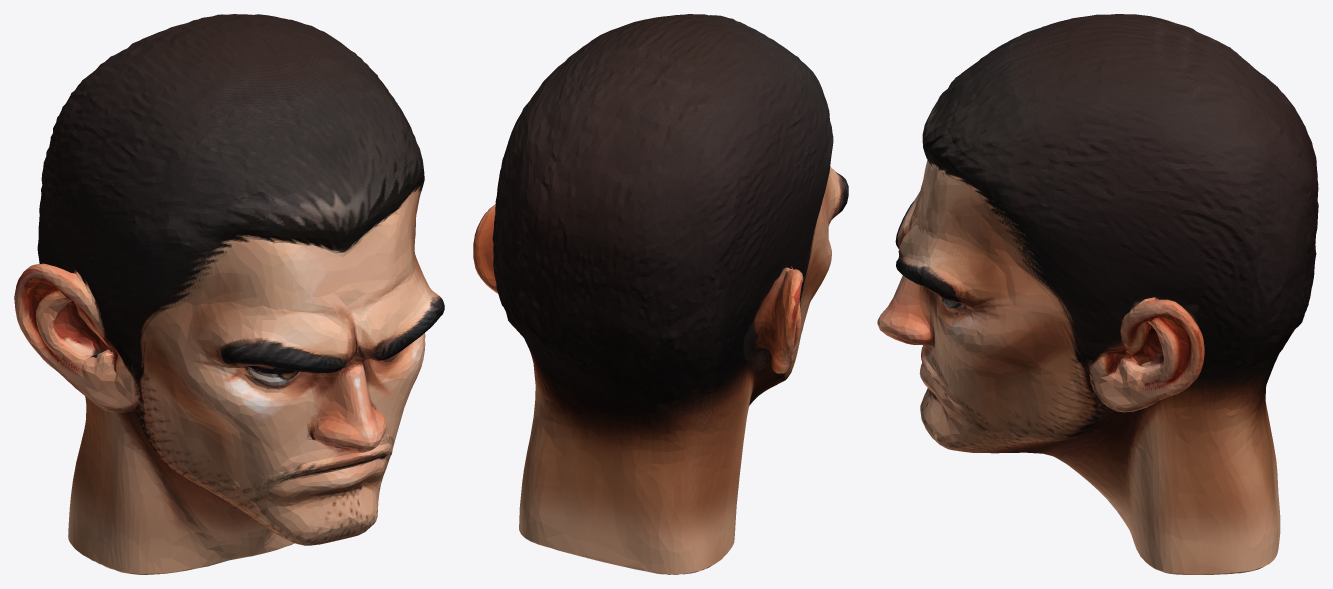
The model's file is side_hiro_repaired_atlas.glb.
3 renders of one model, left to right at view 1: azimuth 30°, elevation 25°; view 2: azimuth 150°, elevation 25°; view 3: azimuth 270°, elevation 25°, orthographic. The views are drawn at different scales.
Visible parts, largest first — view 1: temp_mesh.ply; view 2: temp_mesh.ply; view 3: temp_mesh.ply.
Boxes of the visible parts, <box> form: temp_mesh.ply: <box>14,14,444,574</box>; temp_mesh.ply: <box>473,14,848,574</box>; temp_mesh.ply: <box>877,14,1318,574</box>.
Size of the model in its own units: 1.02 by 1.42 by 1.15.
1 material, 1 textured.
